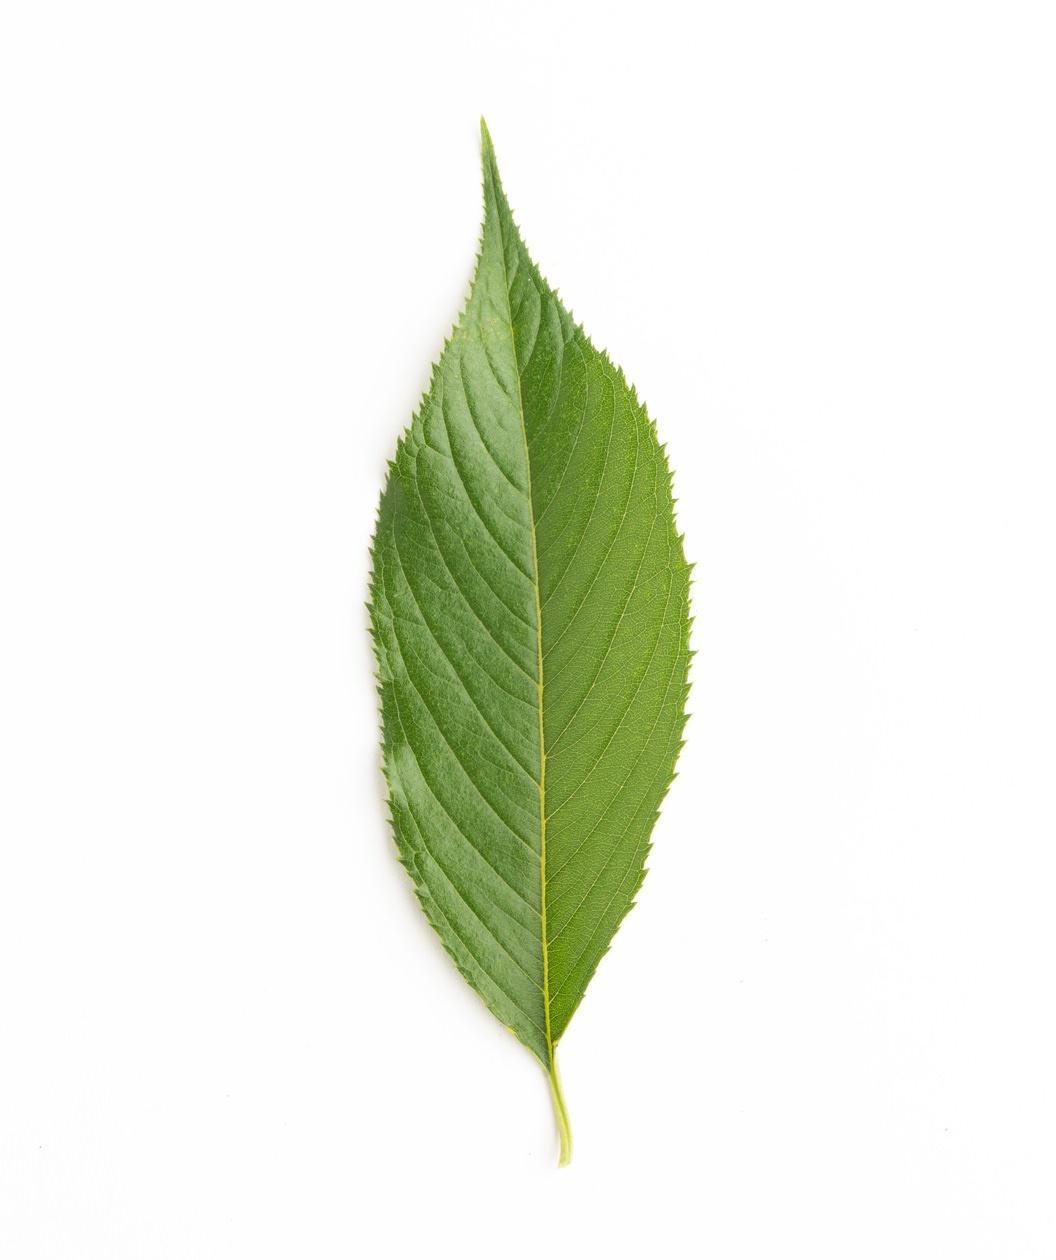Cherry leaf: (342, 94, 721, 1199)
